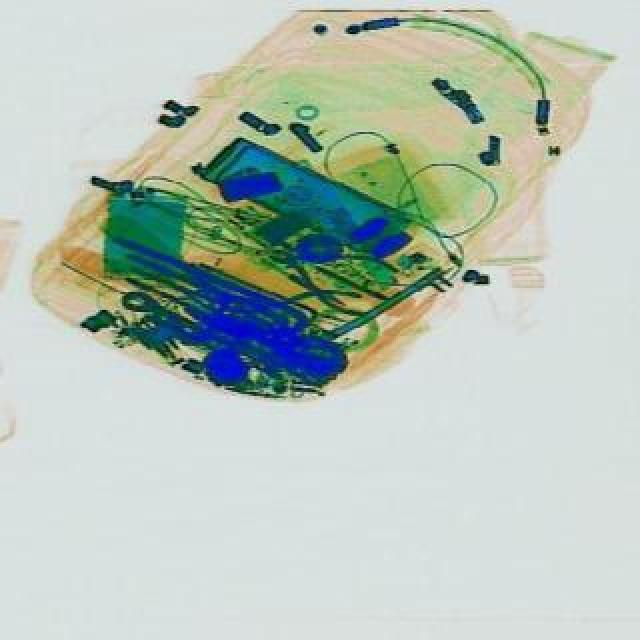scissors: (120, 286, 216, 350)
wrench: (256, 226, 404, 326)
